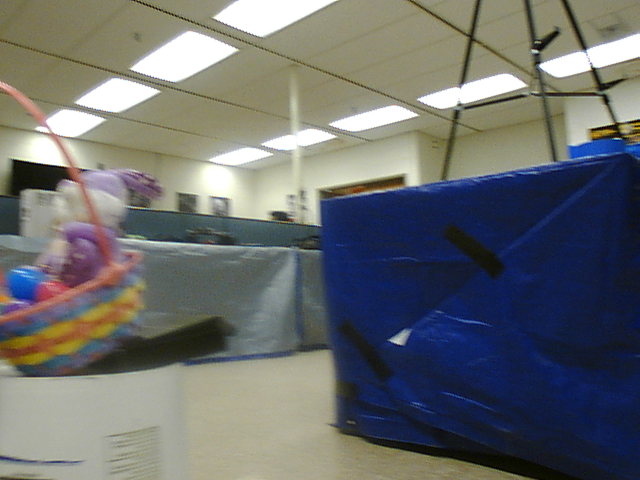bunny: (1, 83, 159, 369)
